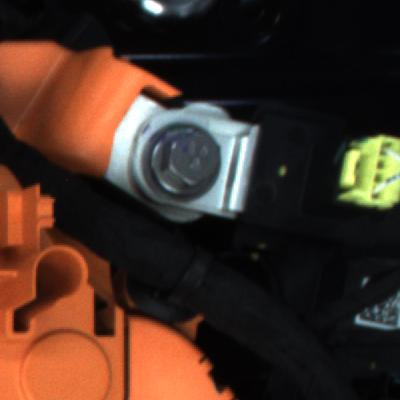nut_b: (131, 123, 226, 205)
